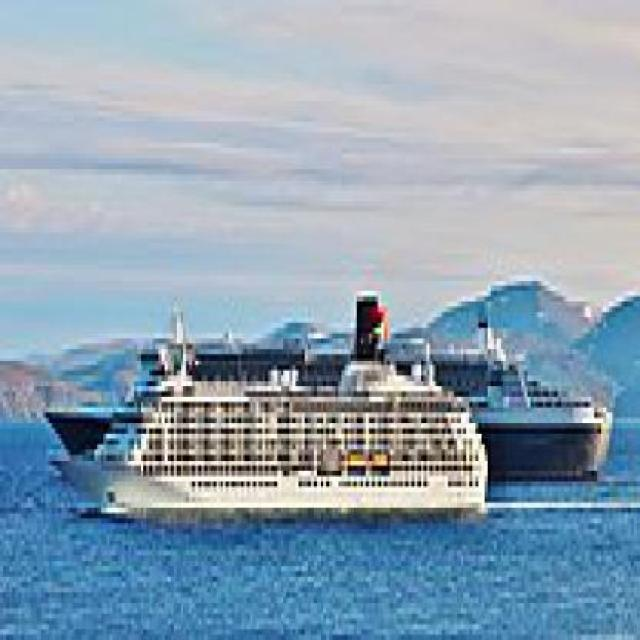cruise: (65, 281, 496, 541)
